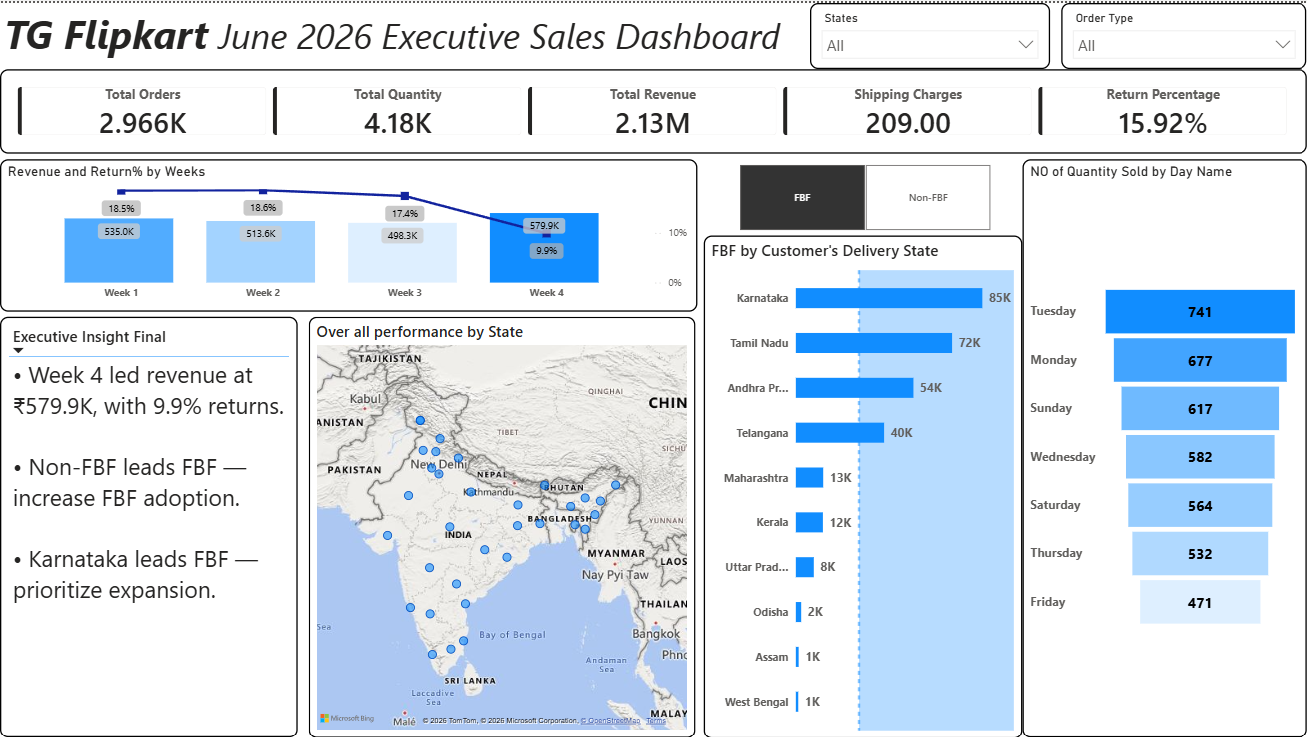

What the dashboard file says about the page in this screenshot:
{"tool":"powerbi","page":{"name":"Operational & Return Analysis","canvas":[1600,900],"ordinal":1},"visuals":[{"type":"textbox","box":[0,0,976.7,81],"z":0},{"type":"cardVisual","fields":{"Data":["Count(FlipkartSales.Order ID)","Sum(FlipkartSales.Item Quantity)","FlipkartSales.Total_revenue","Sum(FlipkartSales.Shipping Charges)","FlipkartSales.return_percentage"]},"box":[0,81,1598.9,103],"z":1000},{"type":"funnel","title":"NO of Quantity Sold by Day Name","fields":{"Category":["FlipkartSales.Day Name"],"Y":["Sum(FlipkartSales.Item Quantity)"]},"box":[1250.3,191.1,348.5,707.7],"z":2000},{"type":"slicer","fields":{"Values":["FlipkartSales.Customer's Delivery State"]},"box":[990.1,0,294,81.2],"z":3000},{"type":"map","title":"Over all performance by State","fields":{"Category":["FlipkartSales.Customer's Delivery State"]},"box":[376.9,384.1,472.5,515.8],"z":4000},{"type":"lineStackedColumnComboChart","title":"Revenue and Return% by Weeks","fields":{"Category":["FlipkartSales.Week"],"Y":["FlipkartSales.Total_revenue"],"Y2":["FlipkartSales.return_percentage"]},"box":[0,191.2,852.5,186.2],"z":5000},{"type":"slicer","fields":{"Values":["FBF+NON-FBF Parameter.FBF+NON-FBF Parameter"]},"box":[878.9,191.1,356.1,93.2],"z":6000},{"type":"slicer","fields":{"Values":["FlipkartSales.Order Type"]},"box":[1298.5,0,301.2,81.2],"z":7000},{"type":"clusteredBarChart","fields":{"Y":["FlipkartSales.FBF"],"Category":["FlipkartSales.Customer's Delivery State"]},"box":[860.6,284.3,389.8,616],"z":8000},{"type":"tableEx","fields":{"Values":["FBF+NON-FBF Parameter.Executive Insight Final"]},"box":[0,383.7,363.8,515.1],"z":8007}]}

Visuals, with their boxes in screenshot pixels (x1, y1, x2, y2), scaled from the page's 1600x900 canvas onto the 1307x737 screenshot:
textbox: <box>0,0,798,66</box>
cardVisual - Count(FlipkartSales.Order ID) x Sum(FlipkartSales.Item Quantity): <box>0,66,1306,151</box>
"NO of Quantity Sold by Day Name" funnel: <box>1021,156,1306,736</box>
slicer - FlipkartSales.Customer's Delivery State: <box>809,0,1049,66</box>
"Over all performance by State" map: <box>308,315,694,736</box>
"Revenue and Return% by Weeks" lineStackedColumnComboChart: <box>0,157,696,309</box>
slicer - FBF+NON-FBF Parameter.FBF+NON-FBF Parameter: <box>718,156,1009,233</box>
slicer - FlipkartSales.Order Type: <box>1061,0,1306,66</box>
clusteredBarChart - FlipkartSales.FBF x FlipkartSales.Customer's Delivery State: <box>703,233,1021,736</box>
tableEx - FBF+NON-FBF Parameter.Executive Insight Final: <box>0,314,297,736</box>
